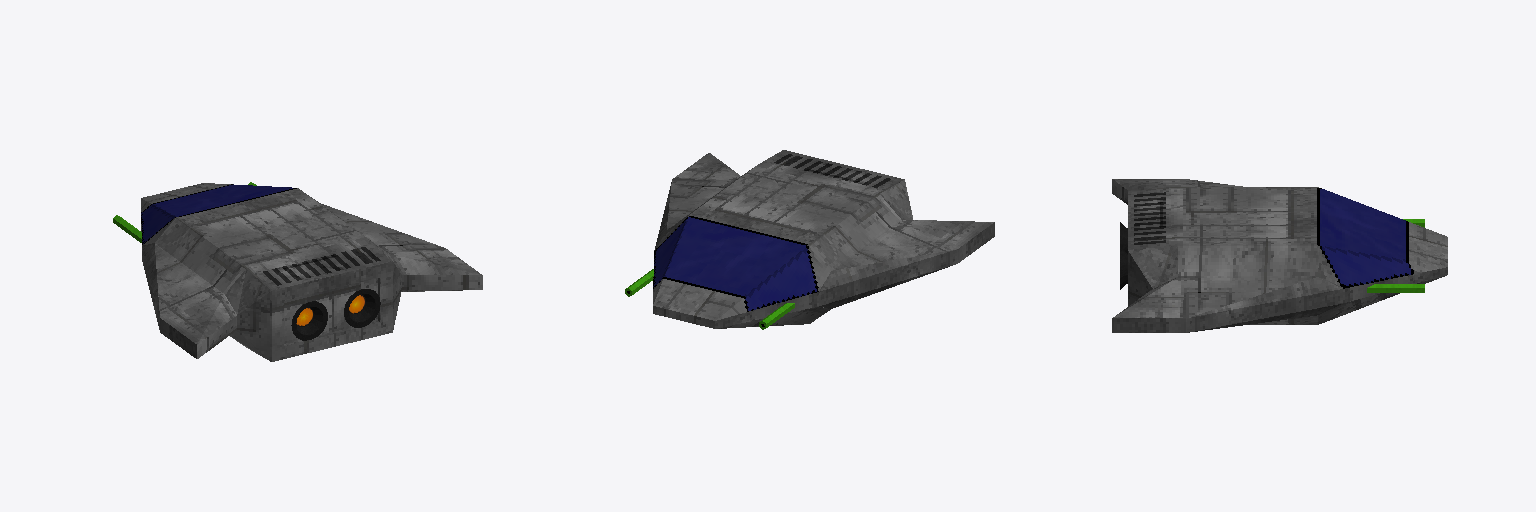
The picture shows the model from 3 angles: view 1: azimuth 30°, elevation 25°; view 2: azimuth 150°, elevation 25°; view 3: azimuth 270°, elevation 25°; orthographic projection.
Visible parts, largest first — view 1: body, jet1, jet2; view 2: body; view 3: body.
Boxes of the visible parts, x1=… form: body: x1=141, y1=183, x2=482, y2=361; jet1: x1=291, y1=301, x2=327, y2=340; jet2: x1=344, y1=289, x2=380, y2=327; body: x1=653, y1=150, x2=994, y2=328; body: x1=1112, y1=179, x2=1447, y2=332.
Bounding box in the file's own units: 0.447 × 0.1182 × 0.4552.
Materials: 4 (3 with a texture image).